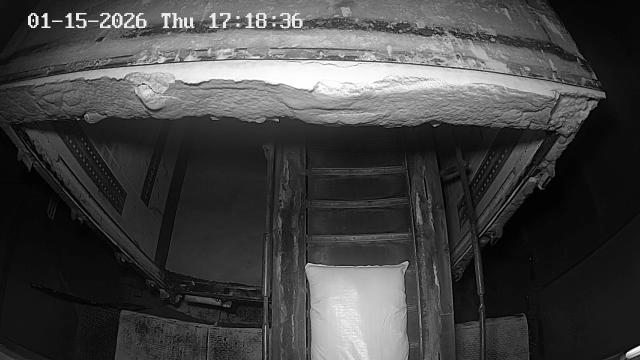bag: (307, 261, 410, 360)
